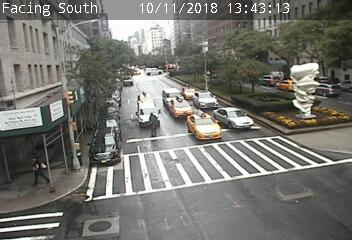car: (89, 128, 120, 165), (214, 107, 254, 131), (187, 114, 222, 141), (137, 103, 161, 127), (168, 99, 193, 119), (310, 83, 340, 98), (193, 91, 218, 108), (163, 88, 183, 108), (275, 79, 299, 91), (259, 75, 280, 87), (137, 93, 152, 108), (181, 87, 198, 99)
